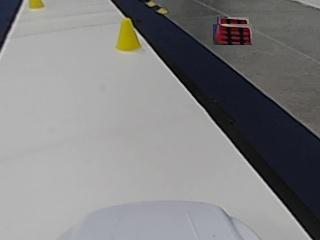cone: (115, 20, 141, 51)
